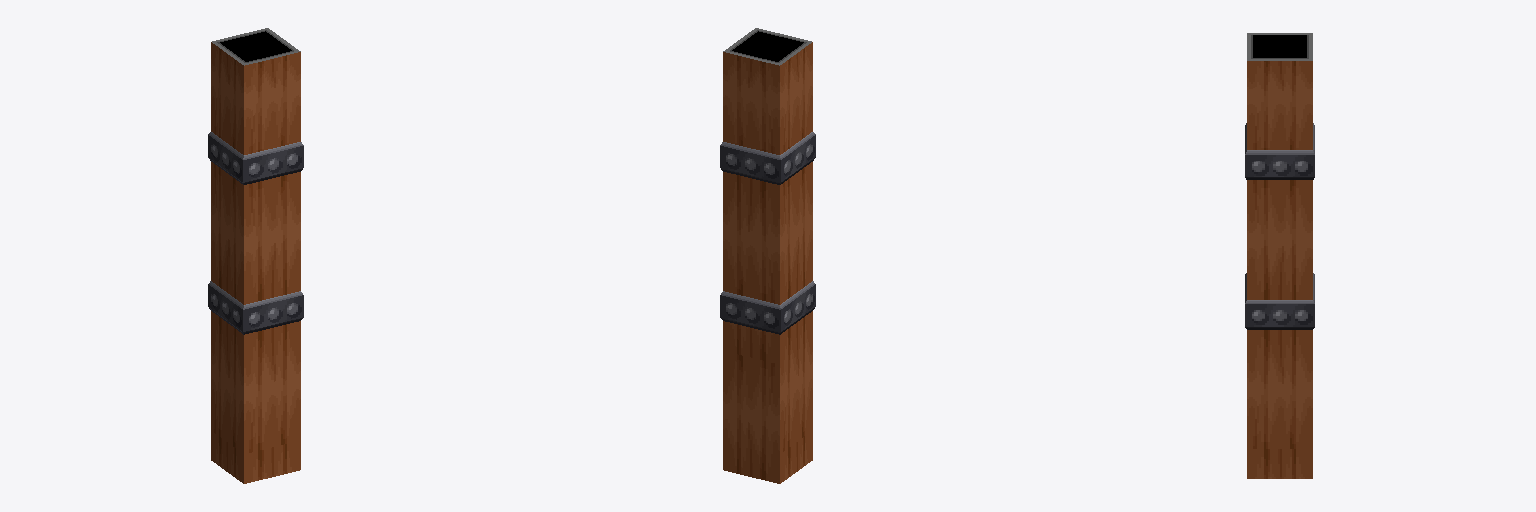
The picture shows the model from 3 angles: view 1: azimuth 30°, elevation 25°; view 2: azimuth 150°, elevation 25°; view 3: azimuth 270°, elevation 25°; orthographic projection.
Parts seen in each view (by area): view 1: polygon2, polygon1, polygon0; view 2: polygon2, polygon1, polygon0; view 3: polygon2, polygon1, polygon0.
Part boxes in pixels (x1,y1,x2,y2): polygon2: (211, 42, 300, 483); polygon1: (208, 132, 303, 334); polygon0: (212, 28, 300, 65); polygon2: (723, 42, 812, 483); polygon1: (720, 132, 815, 334); polygon0: (723, 28, 811, 65); polygon2: (1247, 61, 1312, 478); polygon1: (1245, 123, 1314, 329); polygon0: (1247, 33, 1312, 60).
Size of the model in its own units: 34 by 224 by 34.
Materials: 3 (3 with a texture image).